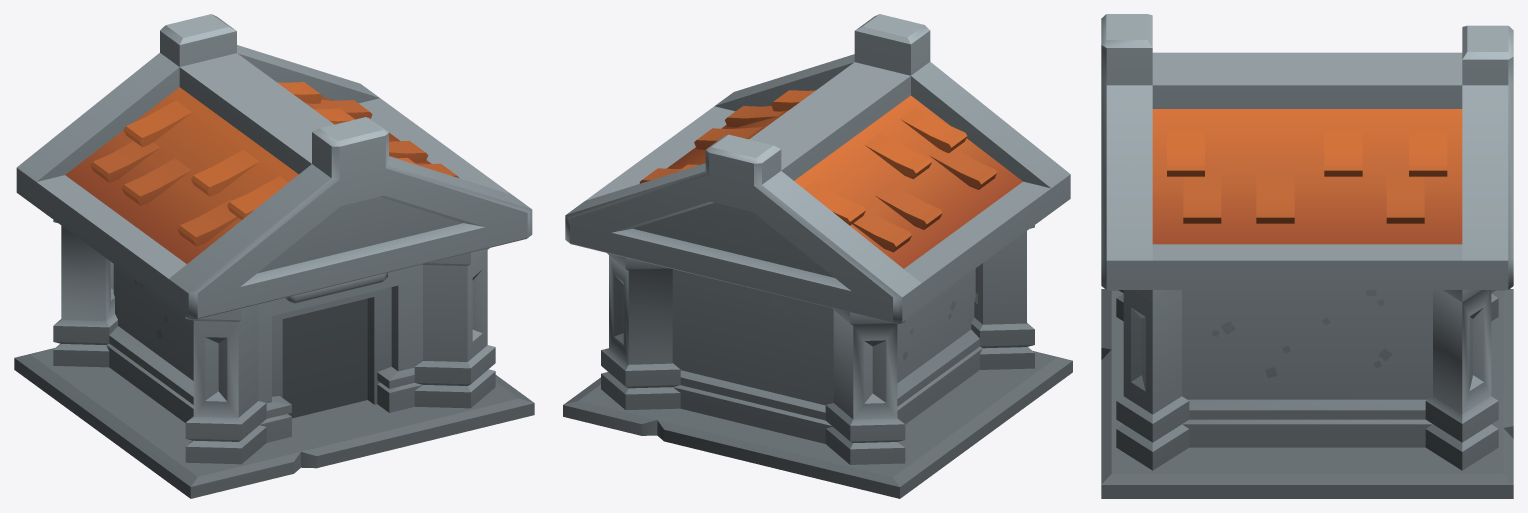
File: Crypt001.fbx
The picture shows the model from 3 angles, left to right: view 1: azimuth 30°, elevation 25°; view 2: azimuth 150°, elevation 25°; view 3: azimuth 270°, elevation 25°; orthographic projection. The views are drawn at different scales.
Visible parts, largest first — view 1: crypt; view 2: crypt; view 3: crypt.
Part boxes in pixels (x1,y1,x2,y2): crypt: (14, 14, 534, 498); crypt: (563, 14, 1072, 498); crypt: (1101, 14, 1513, 498).
Size of the model in its own units: 1800 by 1600 by 1600.
Materials: 1 (1 with a texture image).
